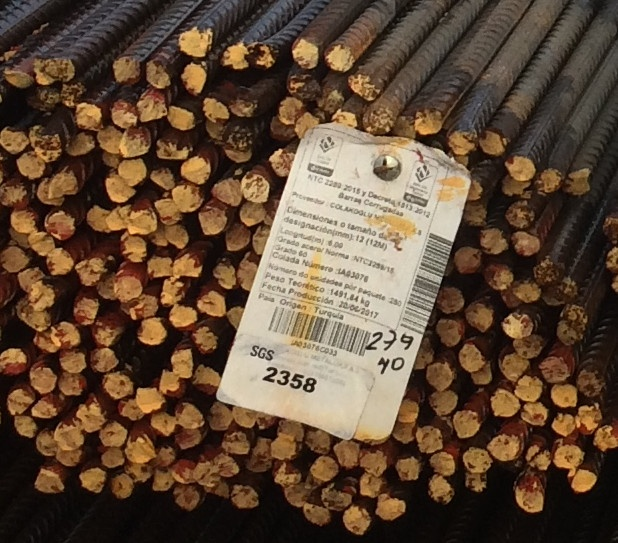dipstick: (29, 125, 63, 161), (223, 129, 256, 161), (120, 127, 150, 157), (349, 70, 379, 100), (229, 86, 258, 116), (500, 353, 533, 379), (241, 173, 270, 202), (292, 37, 319, 68), (136, 386, 167, 413), (362, 107, 390, 136), (458, 342, 486, 371), (514, 483, 543, 511), (45, 212, 75, 239), (181, 64, 209, 92), (193, 366, 221, 394), (324, 44, 353, 71), (289, 74, 318, 101), (77, 404, 106, 431), (506, 201, 535, 228), (465, 302, 492, 331), (427, 361, 454, 390), (246, 42, 276, 68), (181, 158, 211, 184), (173, 185, 203, 211), (207, 401, 233, 431), (462, 445, 492, 471), (179, 31, 210, 56), (34, 469, 66, 493), (147, 60, 174, 88), (106, 174, 134, 201), (200, 206, 227, 234), (128, 208, 156, 235), (52, 320, 79, 348), (429, 476, 456, 504), (491, 390, 519, 417), (138, 318, 167, 344), (344, 506, 370, 535), (136, 97, 166, 122), (174, 485, 204, 510), (413, 109, 443, 134), (124, 439, 155, 463), (504, 155, 535, 179), (199, 290, 226, 317), (193, 326, 220, 353), (416, 425, 443, 452), (18, 151, 44, 179), (305, 497, 331, 525), (323, 483, 351, 509), (456, 247, 482, 275), (513, 275, 541, 301), (10, 207, 38, 233), (97, 125, 122, 154), (212, 260, 237, 289), (111, 101, 137, 128), (203, 97, 229, 124), (118, 159, 145, 185), (28, 282, 55, 308), (160, 371, 187, 397), (100, 420, 127, 446), (1, 247, 27, 274), (270, 149, 295, 177), (119, 236, 147, 261), (114, 277, 142, 302), (76, 260, 104, 285), (104, 373, 132, 398), (311, 456, 339, 481), (334, 439, 359, 467), (454, 410, 479, 438), (514, 333, 542, 358), (428, 390, 457, 414), (156, 138, 189, 159), (114, 58, 140, 84), (155, 199, 181, 225), (524, 443, 550, 469), (75, 104, 102, 129), (168, 104, 195, 129), (214, 180, 241, 205), (30, 368, 57, 393), (437, 319, 462, 346), (503, 312, 530, 337), (378, 492, 403, 519), (515, 375, 542, 400), (480, 228, 508, 252), (448, 131, 477, 154), (554, 446, 583, 469), (223, 44, 248, 70), (225, 224, 250, 250), (47, 248, 73, 273), (57, 425, 83, 450), (521, 400, 547, 425), (1, 128, 27, 153), (91, 347, 118, 371), (511, 232, 539, 255), (87, 205, 112, 230), (271, 435, 296, 460), (170, 304, 196, 328), (60, 348, 86, 372), (79, 468, 105, 492), (487, 265, 513, 289), (430, 450, 456, 474), (47, 57, 74, 80), (58, 373, 85, 396), (232, 485, 259, 508), (482, 129, 505, 156), (570, 468, 597, 491), (491, 437, 520, 458), (29, 232, 54, 256), (439, 287, 463, 312), (281, 97, 304, 123), (9, 388, 32, 414), (277, 460, 301, 484), (361, 451, 385, 475), (594, 425, 618, 449), (74, 299, 97, 324), (536, 260, 559, 285), (552, 385, 578, 407), (539, 169, 563, 192), (240, 203, 265, 225), (15, 415, 40, 437), (223, 432, 248, 454), (553, 414, 578, 436), (174, 460, 197, 483), (569, 170, 592, 193), (166, 224, 188, 248), (151, 414, 176, 435), (38, 429, 58, 455), (118, 400, 145, 419), (397, 457, 420, 479), (55, 448, 84, 465), (36, 397, 59, 418), (152, 466, 171, 491), (8, 348, 26, 374), (471, 362, 491, 385), (464, 472, 487, 490), (101, 448, 123, 466), (156, 445, 174, 466)
